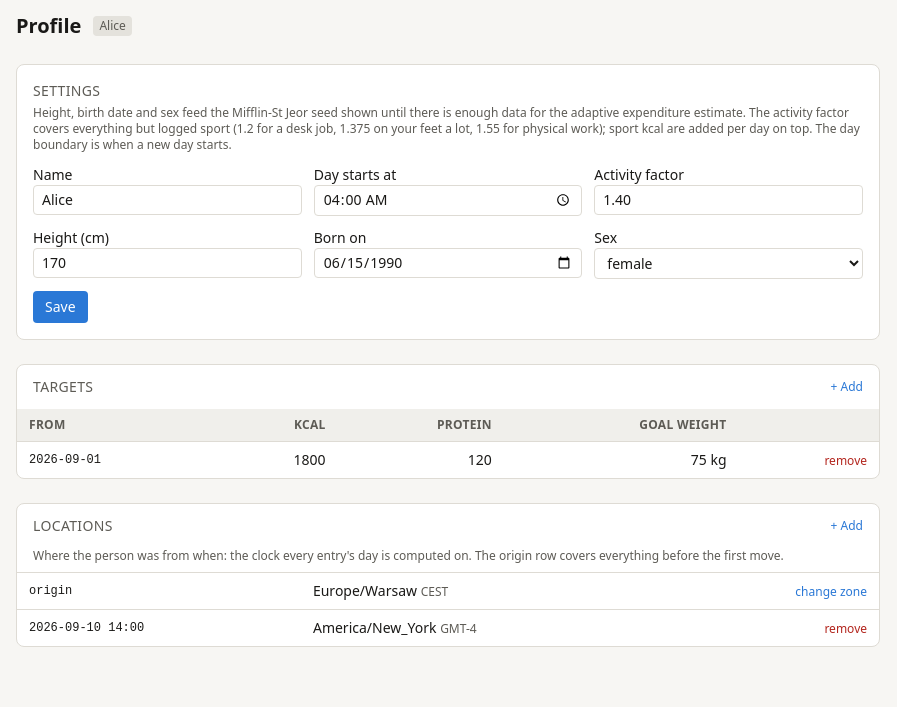
views › ProfileView
The width and height of the screenshot is (897, 707).
Expected: the text with test id "profile-person" reads "Alice", [99,17,126,34]
Expected: the number of rows with test id "target-row" is 1, [17,441,879,478]
Click the button with test id "add-target" at (847, 387), box [831,379,863,395]
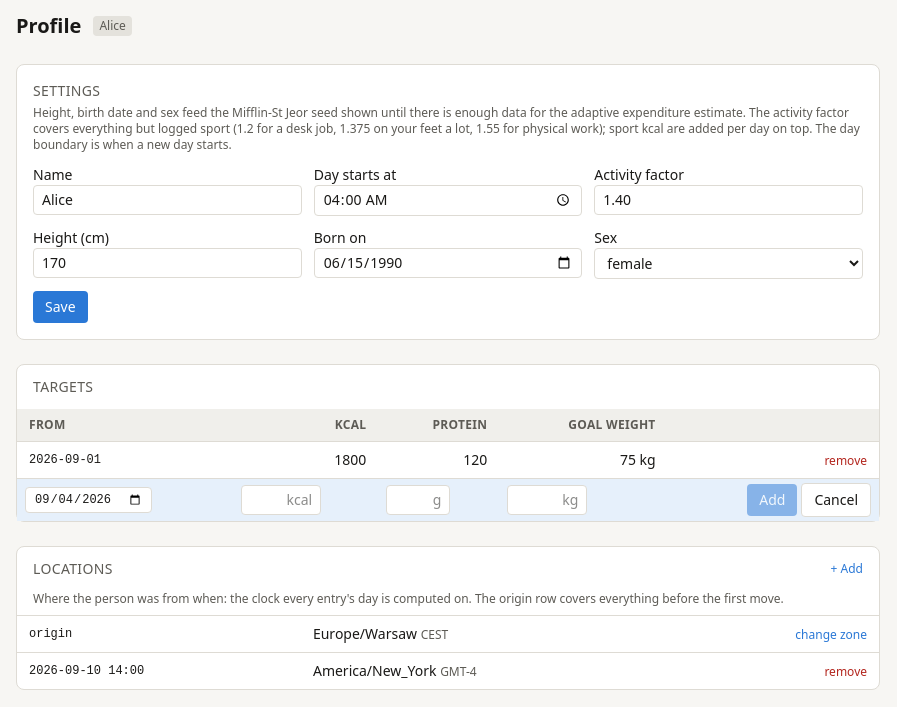
Expected: the row with test id "target-editor" is shown, [17,478,879,521]
